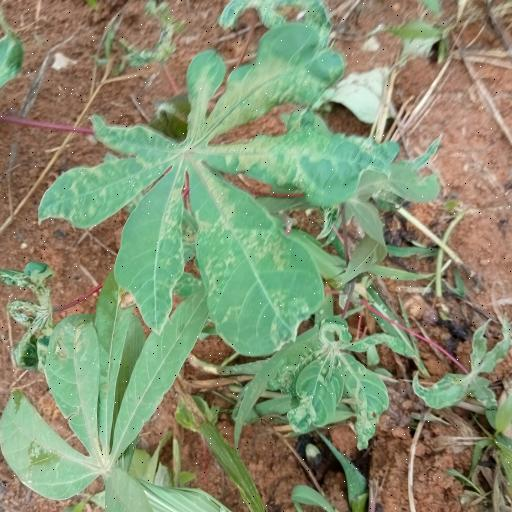Cassava_Mosaic: (42, 30, 357, 346), (0, 293, 209, 512), (276, 350, 391, 448)
